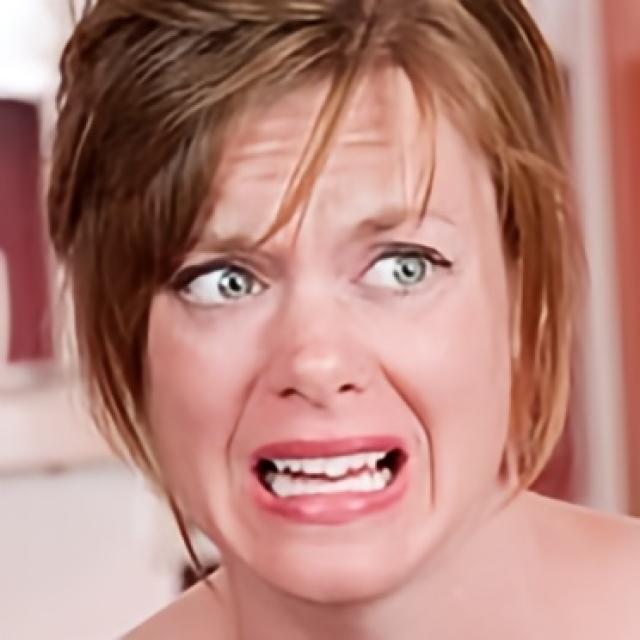fear: (138, 59, 512, 598)
